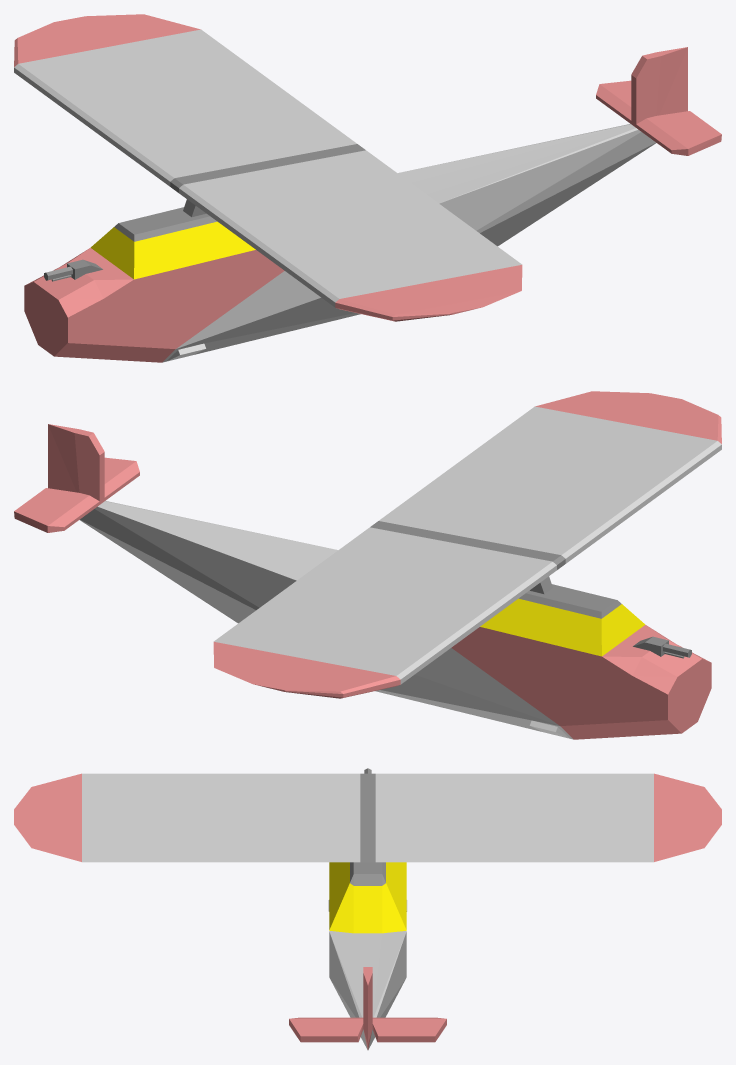
Rendered from Monobird B1.fbx.
The picture shows the model from 3 angles, top to bottom: view 1: azimuth 30°, elevation 25°; view 2: azimuth 150°, elevation 25°; view 3: azimuth 270°, elevation 25°; orthographic projection. The views are drawn at different scales.
Visible parts, largest first — view 1: Monobird B1; view 2: Monobird B1; view 3: Monobird B1.
Part boxes in pixels (box(x1,y1,x2,y2)): Monobird B1: box(14, 14, 721, 362); Monobird B1: box(14, 391, 721, 739); Monobird B1: box(14, 768, 721, 1050).
Size of the model in its own units: 1020 by 273 by 1094.
